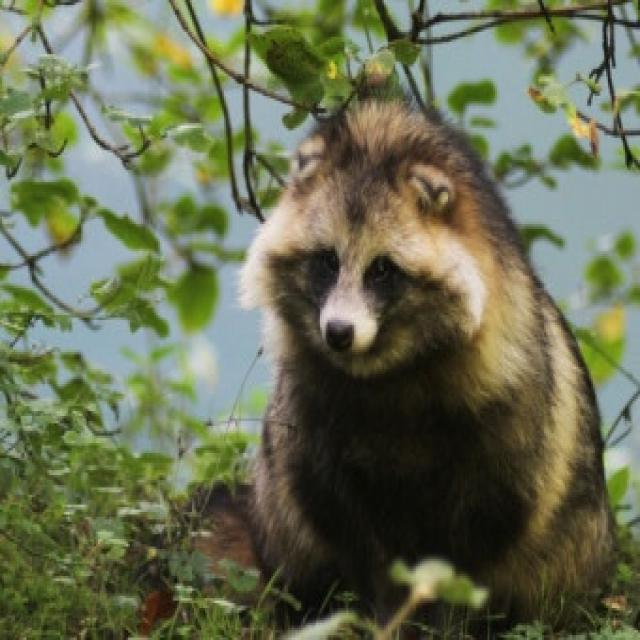racoon: (245, 56, 579, 620)
